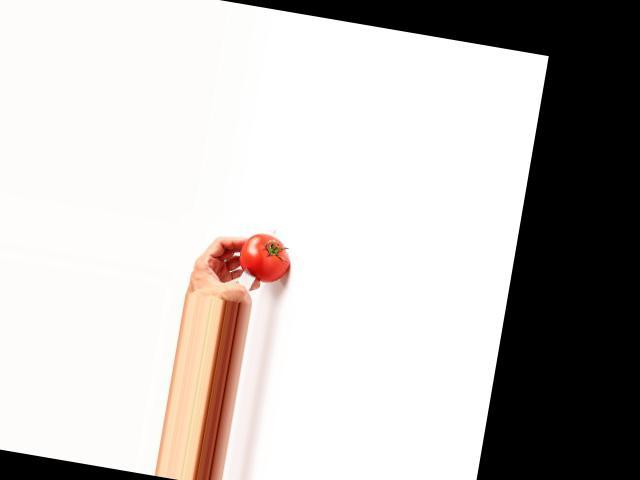tomato: (235, 230, 293, 285)
